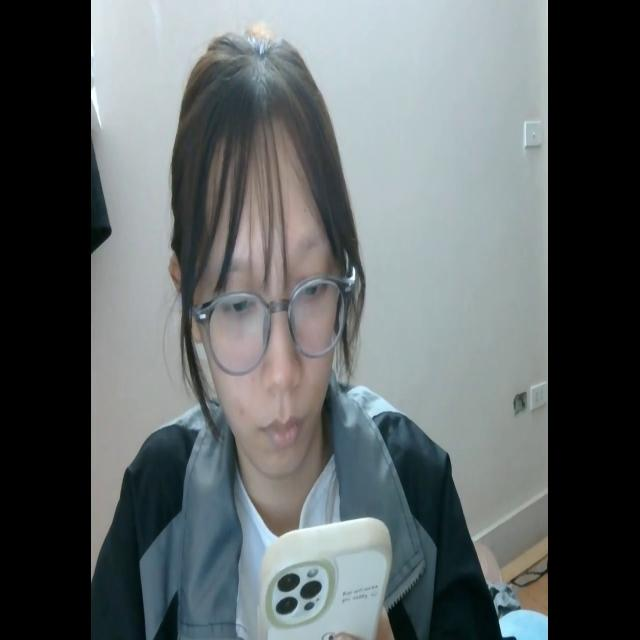phone: (258, 512, 391, 640)
student: (94, 24, 498, 640)
